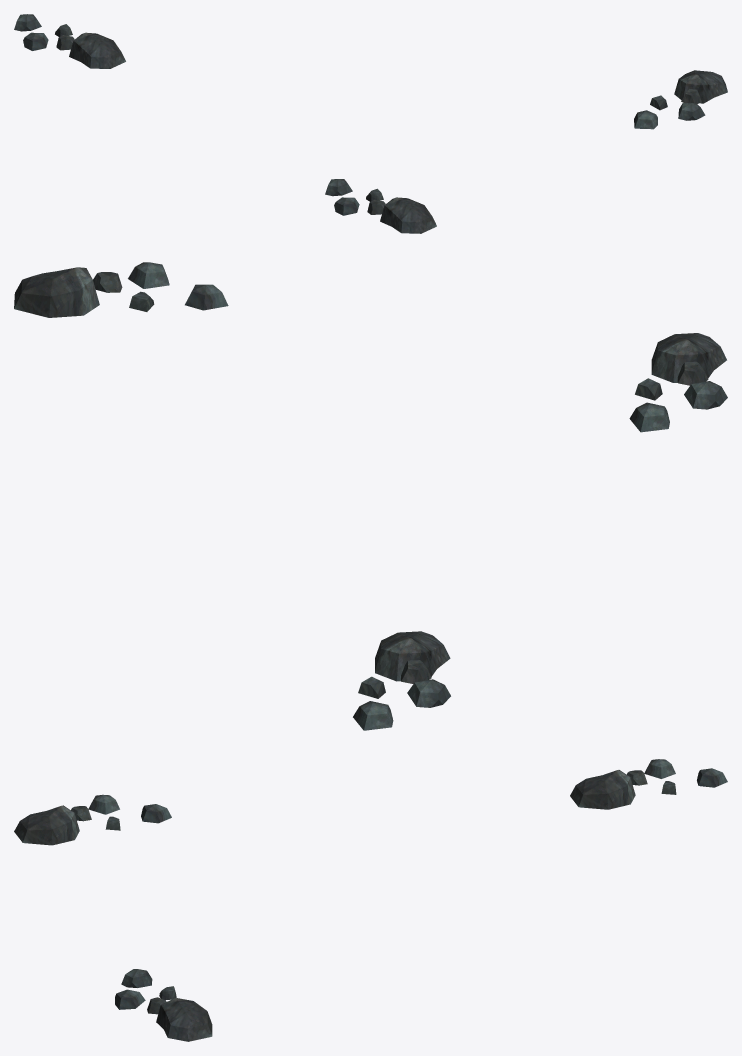
Rendered from object_rubble03.fbx.
The picture shows the model from 3 angles, top to bottom: view 1: azimuth 30°, elevation 25°; view 2: azimuth 150°, elevation 25°; view 3: azimuth 270°, elevation 25°; orthographic projection. The views are drawn at different scales.
Visible parts, largest first — view 1: obj0.080; view 2: obj0.080; view 3: obj0.080.
Boxes of the visible parts, bbox=[...] form: obj0.080: bbox=[14, 14, 727, 233]; obj0.080: bbox=[14, 262, 727, 730]; obj0.080: bbox=[14, 759, 727, 1041].
Size of the model in its own units: 9.36 by 0.4087 by 10.44.
